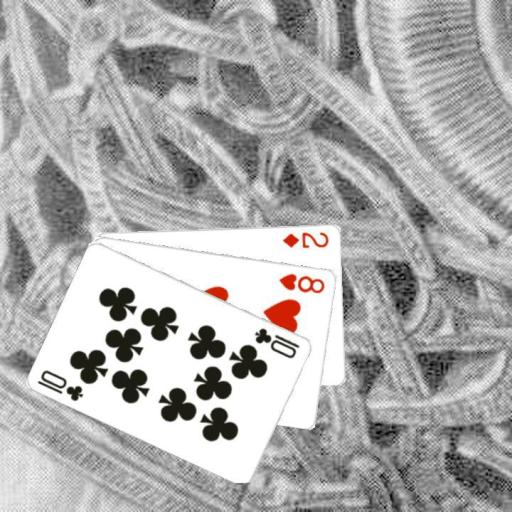10C: (34, 366, 85, 403), (252, 324, 302, 360)
2D: (280, 228, 331, 249)
8H: (276, 270, 326, 295)
